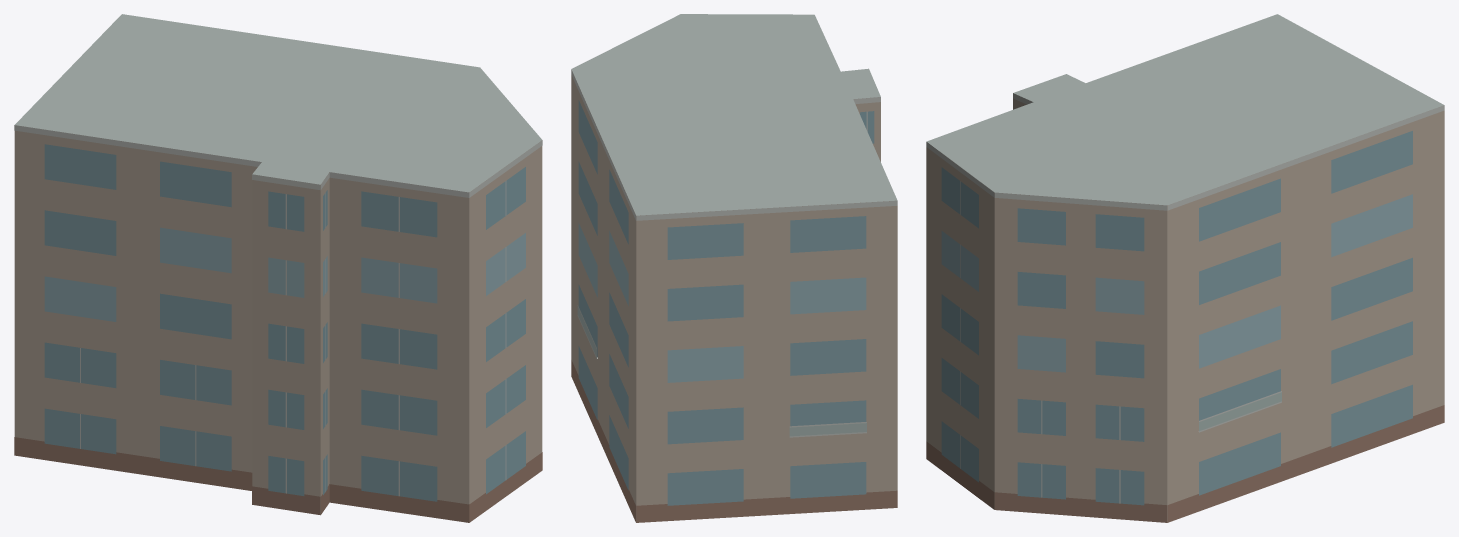
File: survey-upis-32956179.glb
3 renders of one model, left to right at view 1: azimuth 30°, elevation 25°; view 2: azimuth 150°, elevation 25°; view 3: azimuth 270°, elevation 25°, orthographic. The views are drawn at different scales.
Visible parts, largest first — view 1: survey-upis-32956179.tmp; view 2: survey-upis-32956179.tmp; view 3: survey-upis-32956179.tmp.
Boxes of the visible parts, <box> form: survey-upis-32956179.tmp: <box>14,14,542,522</box>; survey-upis-32956179.tmp: <box>571,14,897,522</box>; survey-upis-32956179.tmp: <box>926,14,1444,522</box>.
Size of the model in its own units: 18.76 by 14.5 by 21.46.
